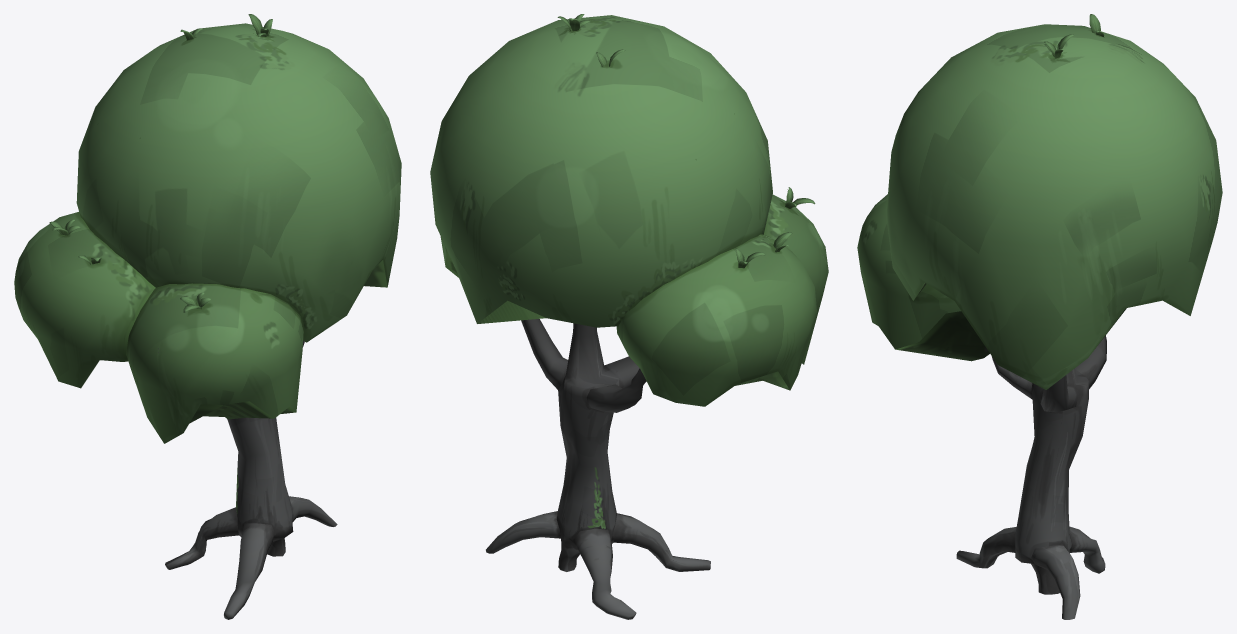
File: Tree1.glb
3 renders of one model, left to right at view 1: azimuth 30°, elevation 25°; view 2: azimuth 150°, elevation 25°; view 3: azimuth 270°, elevation 25°, orthographic. The views are drawn at different scales.
Parts seen in each view (by area): view 1: Tree1; view 2: Tree1; view 3: Tree1.
Part boxes in pixels (bbox=[...]): Tree1: bbox=[14, 14, 401, 619]; Tree1: bbox=[430, 14, 828, 619]; Tree1: bbox=[857, 14, 1222, 619].
Size of the model in its own units: 11.89 by 18.16 by 10.68.
1 material, 1 textured.
